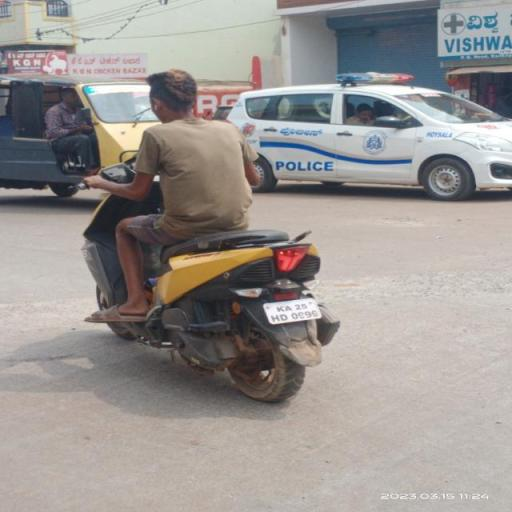bike: (72, 68, 354, 410)
numberplate: (262, 295, 328, 325)
withouthelmet: (151, 72, 193, 119)
